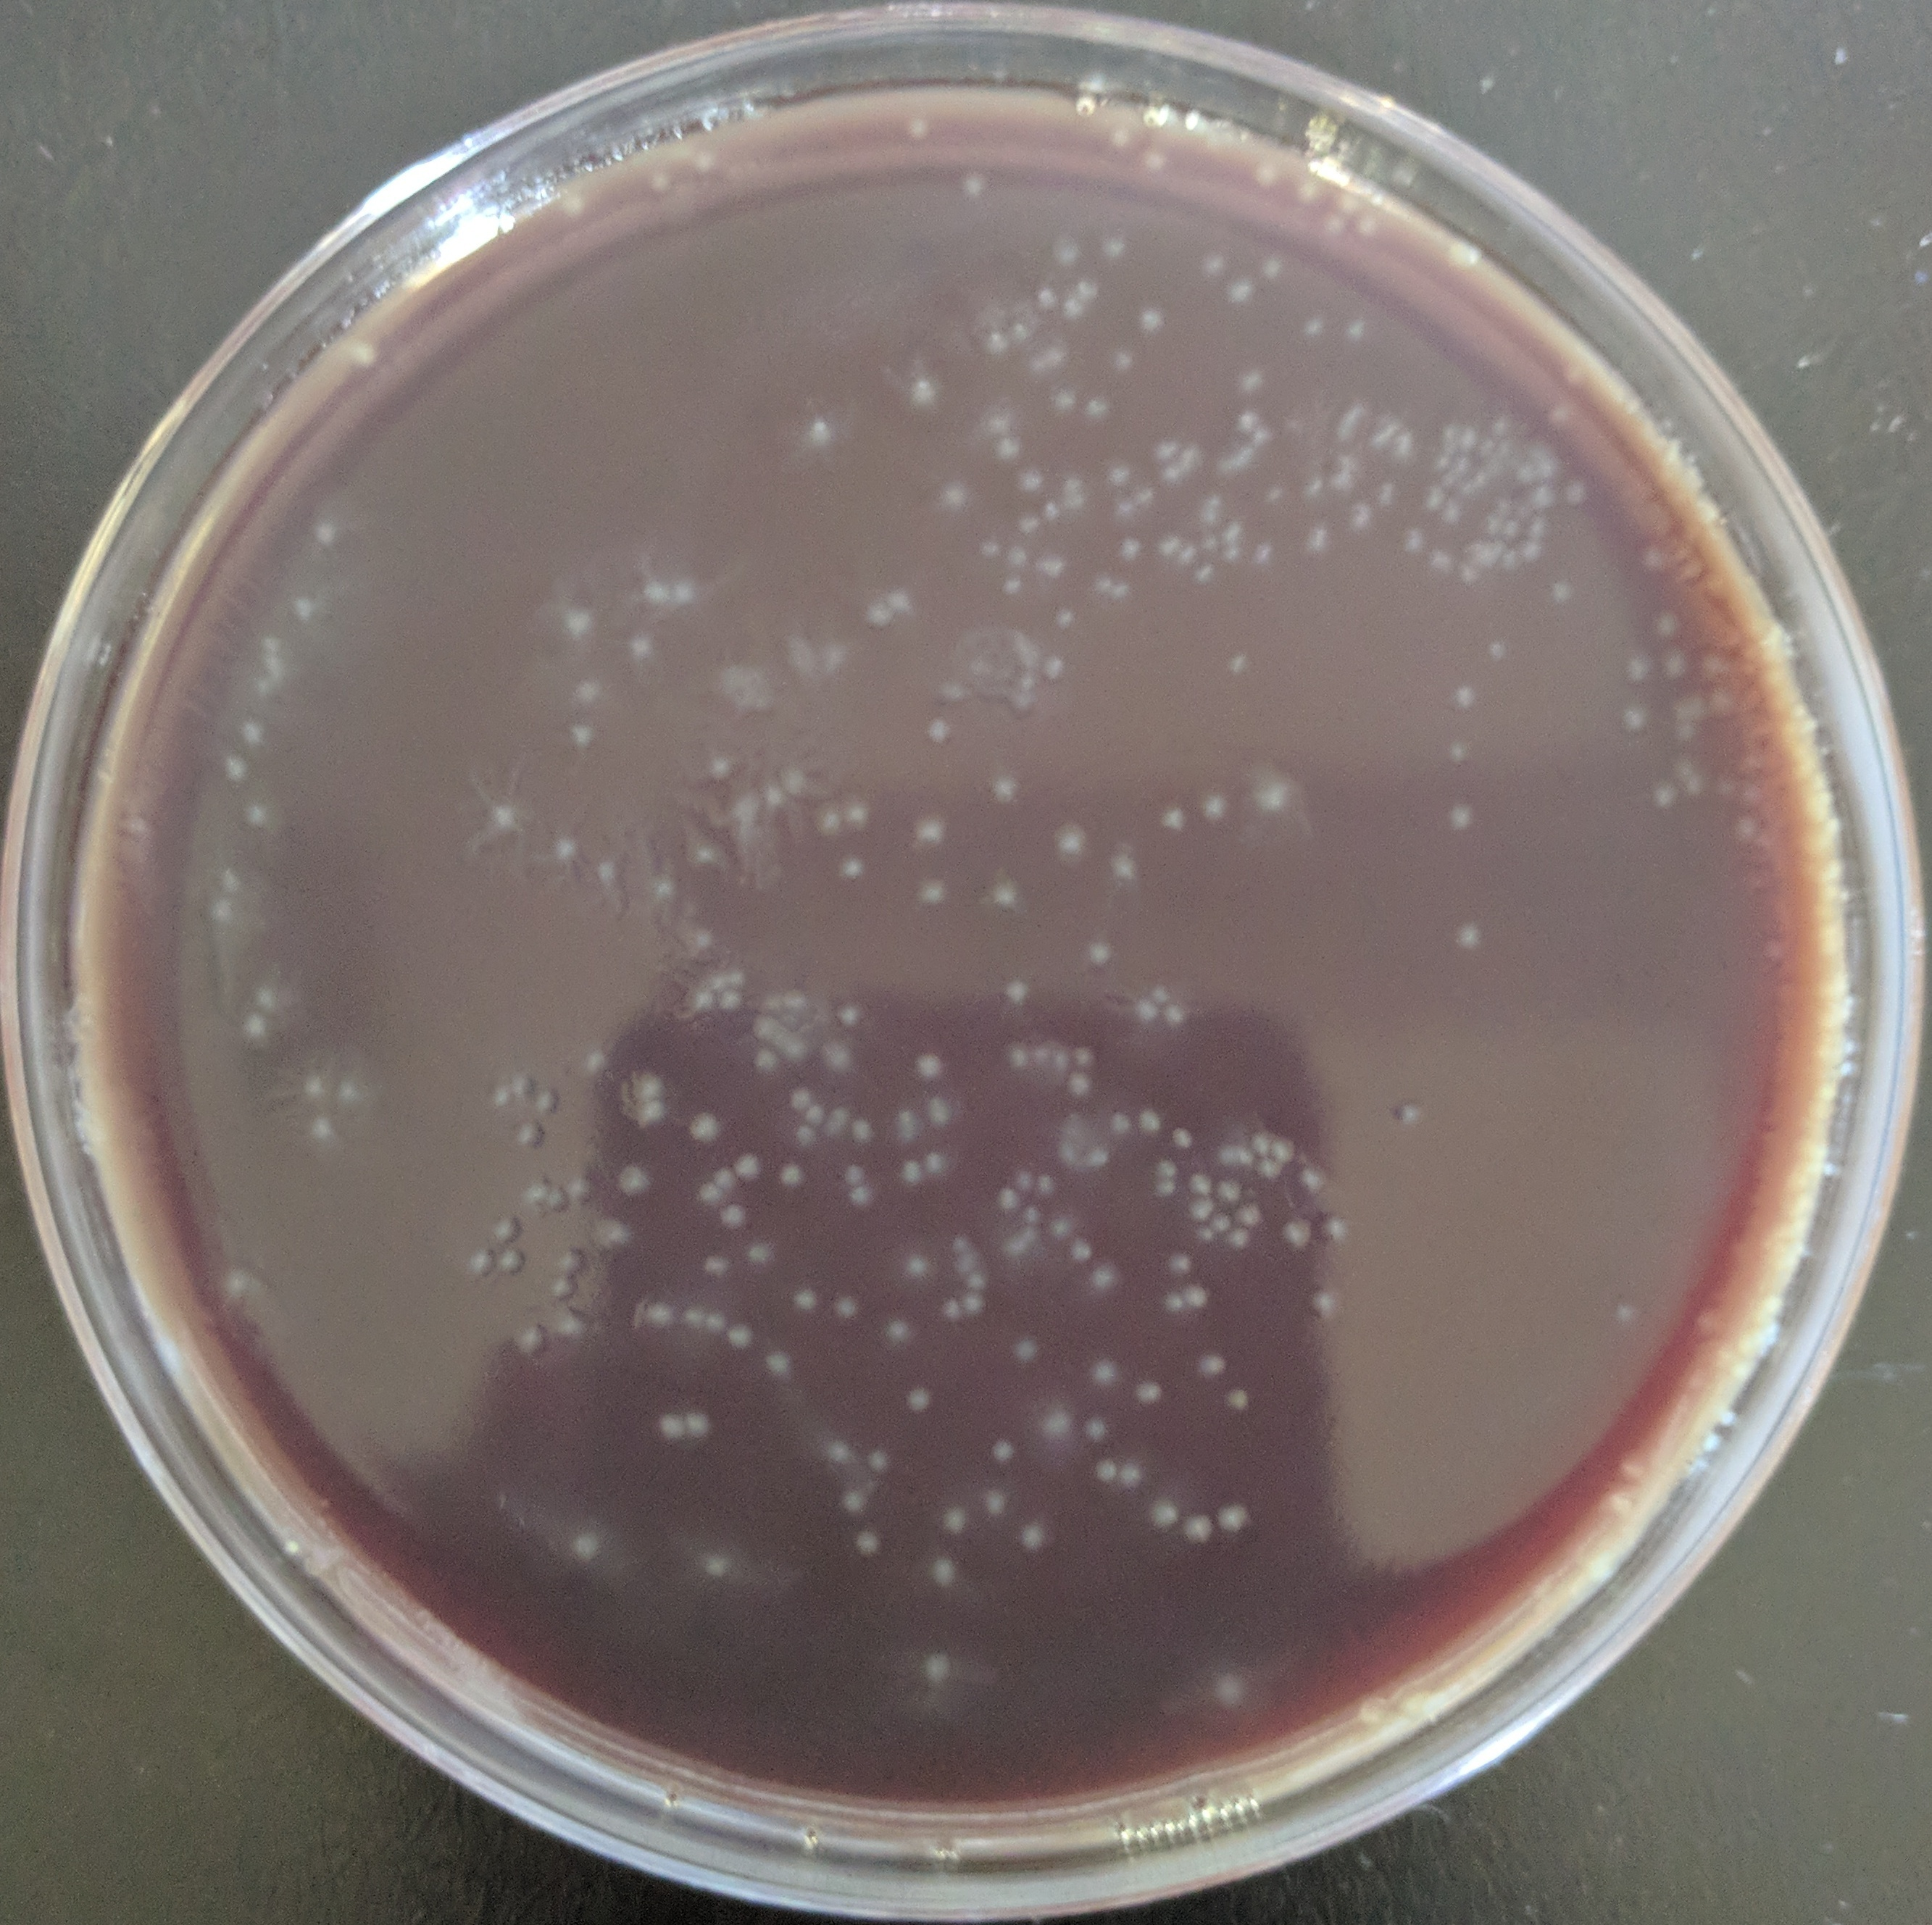sp06: (469, 784, 524, 851), (554, 1514, 608, 1574), (1028, 1400, 1077, 1463), (1040, 813, 1091, 871), (901, 811, 954, 866), (550, 1301, 601, 1354), (541, 820, 587, 878), (770, 633, 818, 686), (545, 596, 599, 642), (717, 666, 772, 712), (793, 414, 843, 464), (975, 769, 1026, 816), (1378, 1096, 1435, 1139), (328, 1067, 375, 1116), (1239, 769, 1292, 813), (631, 1299, 684, 1343), (282, 1059, 331, 1105), (1102, 843, 1144, 896), (899, 367, 948, 411), (303, 511, 351, 555), (917, 703, 961, 751), (684, 1546, 740, 1583), (836, 793, 881, 837), (816, 1033, 860, 1077), (210, 1262, 252, 1308), (236, 795, 284, 836), (559, 716, 606, 756), (827, 853, 874, 894), (950, 164, 994, 206), (1206, 1669, 1252, 1710), (508, 1322, 554, 1363), (236, 1010, 282, 1051), (566, 675, 613, 714), (1310, 1209, 1354, 1250), (918, 1551, 959, 1595), (342, 333, 386, 374), (920, 1088, 959, 1133), (1144, 1491, 1183, 1537), (804, 802, 850, 841), (1327, 398, 1364, 446), (994, 432, 1033, 476), (1086, 1257, 1125, 1301), (1003, 684, 1042, 728), (1068, 1033, 1105, 1079), (917, 1650, 954, 1696), (885, 111, 934, 145), (987, 876, 1029, 915), (1190, 1349, 1232, 1387), (1215, 1498, 1257, 1537), (977, 1486, 1019, 1525), (629, 1095, 673, 1132), (247, 977, 291, 1014), (631, 575, 668, 619), (814, 635, 851, 679), (1033, 545, 1072, 585), (1320, 457, 1359, 497), (1294, 1158, 1333, 1199), (1111, 527, 1148, 569), (1179, 1509, 1216, 1551), (612, 1163, 654, 1200), (1190, 786, 1227, 829), (913, 874, 957, 910), (626, 1065, 670, 1100), (1079, 1354, 1125, 1387), (724, 1151, 770, 1185), (1179, 1276, 1218, 1315), (215, 753, 254, 792), (1245, 159, 1283, 197), (881, 1313, 922, 1350), (980, 1433, 1021, 1470), (513, 1167, 550, 1208), (938, 472, 973, 515), (1276, 1215, 1319, 1250), (587, 1215, 629, 1250), (994, 1033, 1028, 1077), (888, 1104, 922, 1148), (647, 866, 680, 910), (906, 1051, 952, 1082), (254, 656, 300, 687), (684, 1105, 721, 1144), (978, 397, 1019, 432), (1010, 464, 1051, 499), (1470, 534, 1505, 575), (620, 628, 661, 663), (1058, 1067, 1100, 1100), (1301, 1283, 1334, 1326), (712, 1200, 754, 1234), (483, 1211, 525, 1245), (303, 1112, 346, 1146), (1156, 1245, 1200, 1276), (682, 143, 726, 175), (1371, 411, 1401, 457), (857, 594, 894, 631), (1130, 301, 1167, 338), (994, 1230, 1031, 1267), (783, 1282, 820, 1319), (1015, 1518, 1052, 1555), (656, 1408, 693, 1446), (687, 843, 724, 880), (1153, 800, 1190, 837), (994, 571, 1033, 606), (1081, 938, 1116, 977), (821, 1433, 857, 1472), (758, 1347, 797, 1382), (282, 594, 321, 629), (1135, 1102, 1169, 1142), (1007, 1333, 1047, 1366), (829, 998, 862, 1038), (508, 1118, 550, 1149), (1077, 391, 1112, 428), (851, 1525, 888, 1560), (554, 1243, 589, 1280), (1017, 349, 1056, 383), (1641, 777, 1680, 811), (901, 1382, 934, 1421), (682, 1410, 716, 1449), (594, 857, 622, 903), (742, 1014, 783, 1045), (196, 896, 238, 925), (555, 194, 598, 224), (1444, 733, 1479, 769), (776, 1158, 811, 1193), (880, 571, 913, 608), (1133, 994, 1170, 1028), (1128, 1373, 1165, 1407), (1114, 1456, 1148, 1493), (746, 1045, 783, 1079), (666, 576, 703, 610), (1049, 233, 1086, 266), (1137, 145, 1174, 178), (640, 169, 677, 203), (1726, 814, 1765, 846), (1661, 643, 1690, 684), (1671, 689, 1712, 719), (682, 922, 723, 952), (938, 673, 978, 703), (1616, 703, 1652, 737), (1264, 1130, 1299, 1163), (1066, 1232, 1100, 1267), (1088, 1453, 1121, 1488), (830, 1290, 866, 1324), (723, 1319, 756, 1354), (529, 1082, 562, 1118), (786, 1082, 821, 1116), (700, 751, 735, 784), (1160, 998, 1197, 1029), (999, 973, 1037, 1005), (1081, 1412, 1112, 1449), (217, 862, 249, 899), (1026, 279, 1056, 317), (545, 1276, 585, 1304), (1037, 654, 1077, 682), (1010, 508, 1044, 541), (1105, 344, 1139, 377), (977, 321, 1010, 354), (1031, 1171, 1065, 1204), (578, 1045, 612, 1079), (1223, 649, 1259, 680), (1706, 686, 1738, 721), (1451, 920, 1486, 952), (1253, 1151, 1285, 1186), (1232, 1200, 1267, 1232), (918, 1149, 954, 1181), (950, 1237, 982, 1273), (834, 1484, 866, 1520), (1223, 277, 1259, 308), (954, 1285, 991, 1315), (1255, 256, 1292, 286), (1301, 515, 1329, 554), (233, 717, 273, 744), (971, 531, 1005, 562), (1001, 317, 1033, 351), (1560, 478, 1594, 509), (1528, 448, 1562, 479), (1223, 1220, 1257, 1252), (1038, 1209, 1072, 1241), (1223, 1386, 1257, 1417), (705, 1162, 739, 1193), (777, 760, 809, 793), (1236, 363, 1271, 393), (1440, 800, 1475, 830), (747, 1236, 777, 1271), (566, 1174, 601, 1204), (1618, 650, 1646, 687), (1245, 1126, 1273, 1163), (1047, 1038, 1074, 1077), (677, 1304, 716, 1331), (1102, 457, 1133, 488), (686, 985, 717, 1017), (848, 1116, 880, 1148), (1100, 122, 1132, 153), (1146, 432, 1179, 462), (1047, 383, 1081, 412), (1250, 532, 1280, 566), (862, 1446, 895, 1475), (716, 985, 746, 1019), (790, 1121, 823, 1151), (1098, 229, 1128, 263), (1638, 538, 1666, 573), (1026, 1038, 1054, 1074), (494, 1248, 529, 1276), (784, 1035, 813, 1070), (844, 1186, 881, 1213), (1532, 478, 1557, 517), (1003, 538, 1033, 569), (1213, 1176, 1243, 1208), (1204, 1208, 1236, 1237), (899, 1257, 929, 1289), (1040, 338, 1074, 367), (1183, 1193, 1216, 1222), (991, 1181, 1019, 1215), (259, 628, 293, 656), (546, 1178, 568, 1222), (1393, 423, 1417, 460), (800, 1098, 830, 1128), (1193, 555, 1222, 587), (1424, 545, 1453, 576), (1542, 398, 1574, 427), (1643, 606, 1675, 635), (696, 1179, 728, 1208), (472, 1250, 501, 1282), (823, 1105, 851, 1137), (1135, 476, 1162, 509), (1105, 1104, 1132, 1137), (702, 1253, 735, 1280), (707, 1304, 730, 1342), (1167, 1121, 1197, 1149), (1158, 1289, 1186, 1319), (1200, 249, 1230, 277), (1169, 543, 1200, 569), (1511, 460, 1537, 492), (1683, 772, 1710, 804), (1010, 1165, 1037, 1197), (943, 1504, 970, 1535), (901, 1158, 927, 1190), (777, 989, 809, 1015), (1033, 490, 1056, 525), (1514, 538, 1542, 566), (1525, 517, 1553, 545), (1486, 638, 1514, 666), (834, 1158, 862, 1186), (506, 1068, 534, 1096), (1155, 531, 1185, 557), (1738, 779, 1765, 809), (1185, 1169, 1215, 1195), (1213, 1141, 1239, 1171), (1193, 1222, 1223, 1248), (1059, 485, 1084, 517), (1345, 314, 1370, 346), (1400, 527, 1424, 559), (941, 1225, 973, 1250), (964, 1266, 989, 1297), (1292, 180, 1320, 206), (1297, 476, 1327, 501), (1375, 479, 1400, 509), (1146, 1174, 1176, 1199), (1174, 444, 1206, 467), (1107, 582, 1141, 603), (1668, 749, 1694, 776), (1151, 1153, 1178, 1179), (487, 1084, 513, 1111), (1229, 407, 1257, 432), (1193, 504, 1222, 529), (1451, 684, 1479, 709), (1673, 721, 1701, 746), (1699, 650, 1728, 675), (1155, 977, 1179, 1005), (1059, 294, 1084, 323), (1074, 277, 1098, 305), (1453, 557, 1475, 587), (241, 675, 271, 698), (1334, 189, 1364, 212), (1202, 481, 1223, 513), (1089, 571, 1116, 596), (940, 1297, 966, 1322), (762, 781, 786, 807), (1320, 213, 1345, 240), (1105, 494, 1133, 517), (1500, 522, 1523, 550), (1354, 499, 1375, 529), (1419, 483, 1440, 513), (1500, 550, 1521, 580), (1049, 603, 1074, 628), (1301, 317, 1326, 342), (1264, 479, 1289, 504), (1470, 465, 1497, 488), (1456, 427, 1479, 453), (1444, 495, 1465, 524), (1218, 517, 1243, 539), (1486, 412, 1511, 435), (1474, 439, 1500, 460), (1359, 213, 1380, 240), (1548, 578, 1576, 598), (1014, 1202, 1042, 1222), (1227, 541, 1248, 566), (1509, 497, 1530, 522), (1162, 460, 1183, 483), (1479, 513, 1504, 532), (1435, 423, 1460, 442), (1058, 472, 1084, 490), (707, 968, 730, 987), (726, 970, 749, 989), (1248, 423, 1267, 442), (1451, 453, 1470, 472), (1493, 501, 1511, 522), (1438, 472, 1460, 488), (1460, 479, 1477, 497), (1236, 1144, 1252, 1163), (1431, 455, 1453, 469), (1200, 531, 1215, 550)
